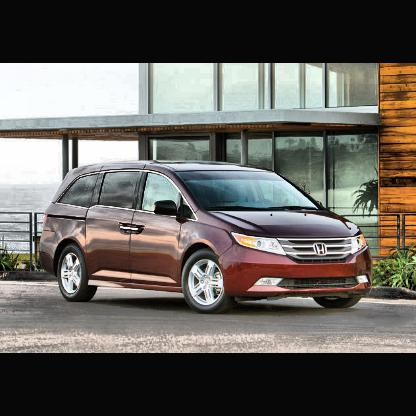Honda Odyssey Minivan 2012: (36, 159, 376, 316)
